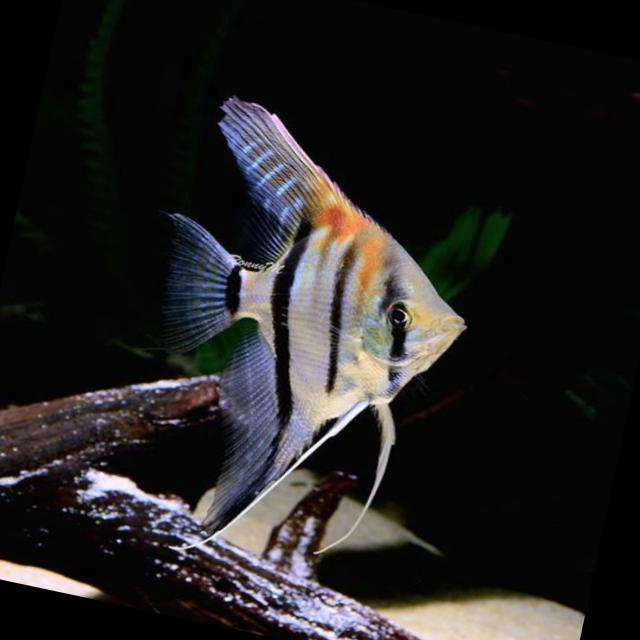AngelFish: (100, 83, 507, 590)
